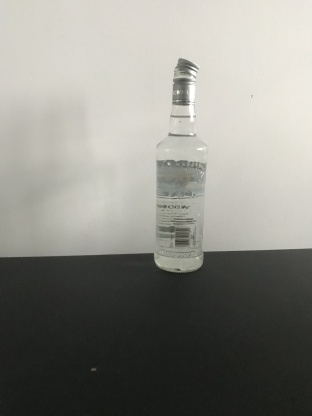nakretka: (170, 55, 200, 105)
